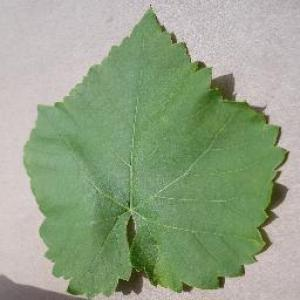Folha: (21, 3, 290, 299)
